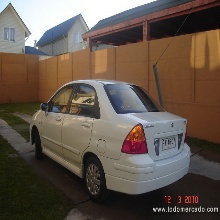no damage: (29, 79, 192, 202)
